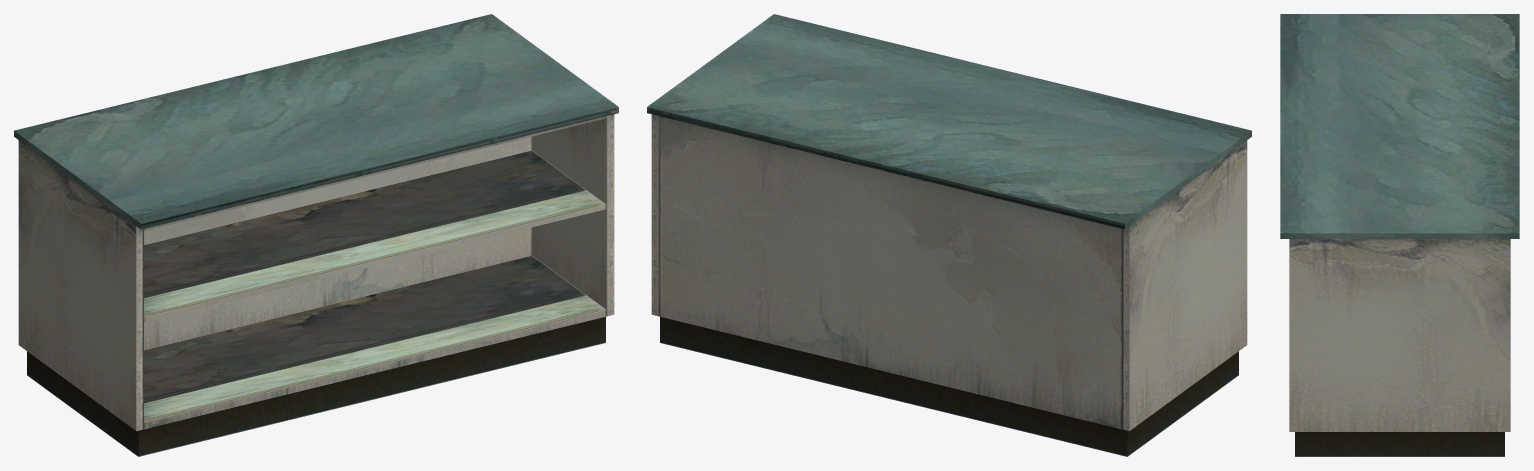
The model's file is labdesk9.fbx.
3 views of the same model, side by side, from view 1: azimuth 30°, elevation 25°; view 2: azimuth 150°, elevation 25°; view 3: azimuth 270°, elevation 25° (orthographic). The views are drawn at different scales.
Visible parts, largest first — view 1: mesh_1, mesh_0; view 2: mesh_1, mesh_0; view 3: mesh_1, mesh_0.
Part boxes in pixels (x1,y1,x2,y2): mesh_1: (14, 14, 618, 431); mesh_0: (27, 317, 605, 456); mesh_1: (647, 14, 1251, 431); mesh_0: (660, 317, 1238, 456); mesh_1: (1280, 14, 1519, 431); mesh_0: (1295, 432, 1504, 456).
Size of the model in its own units: 200 by 95.94 by 91.97.
Materials: 2 (2 with a texture image).
